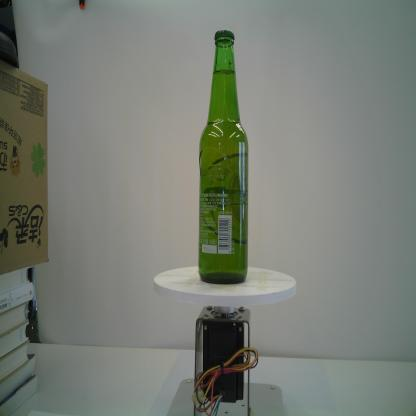Alcohol: (196, 26, 250, 287)
